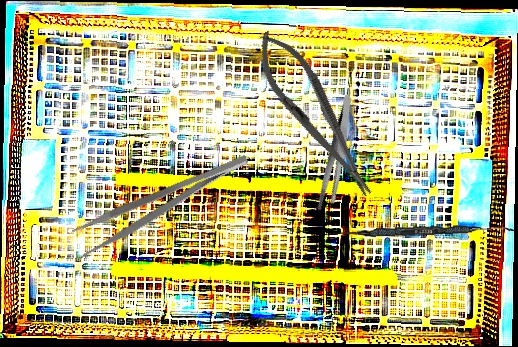Dressing Forceps: (70, 150, 257, 259), (292, 93, 382, 215)
Needle Holder: (243, 21, 387, 208)
Spatula Surgical: (332, 221, 516, 241)
